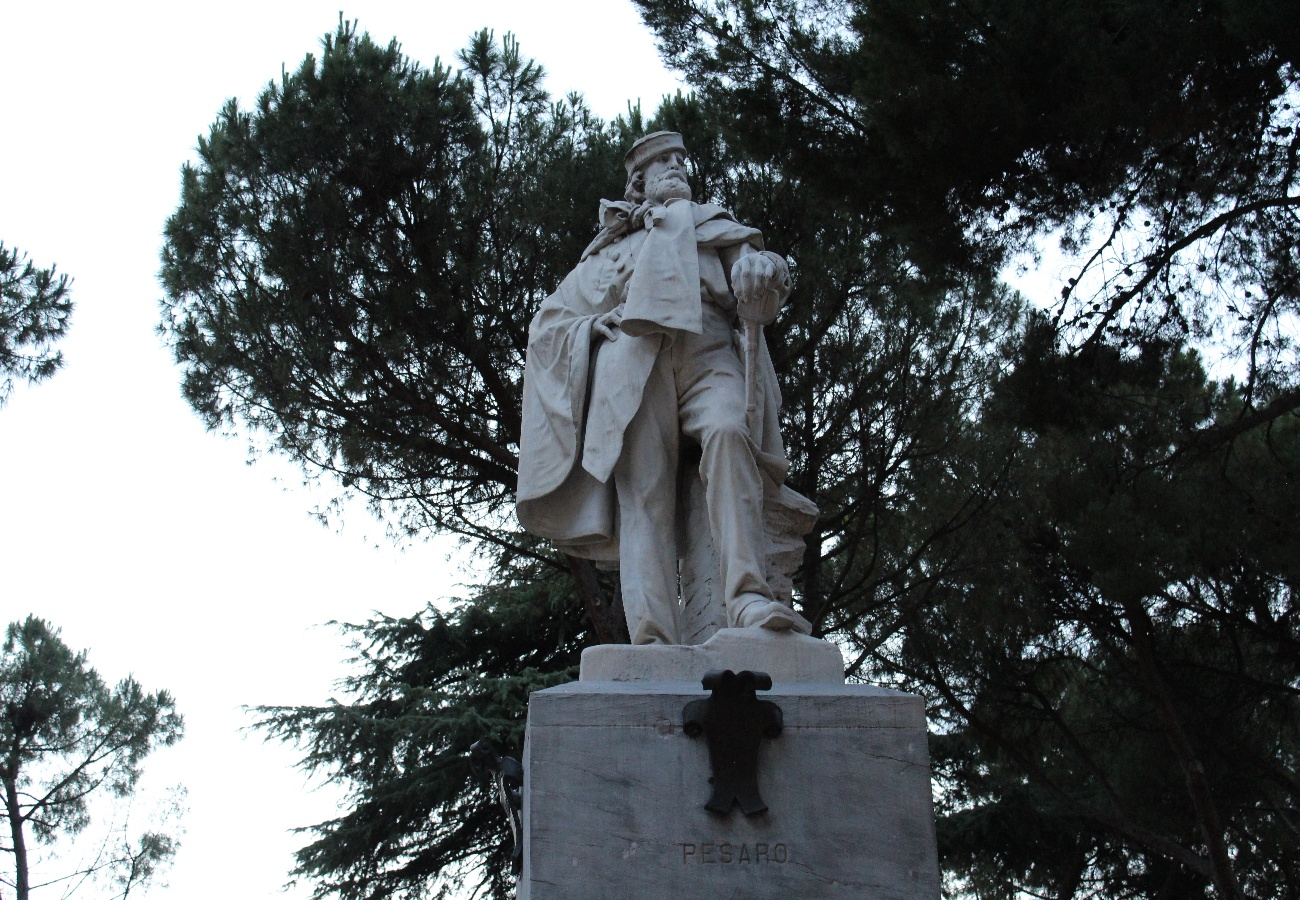Giuseppe Garibaldi: (514, 132, 793, 672)
